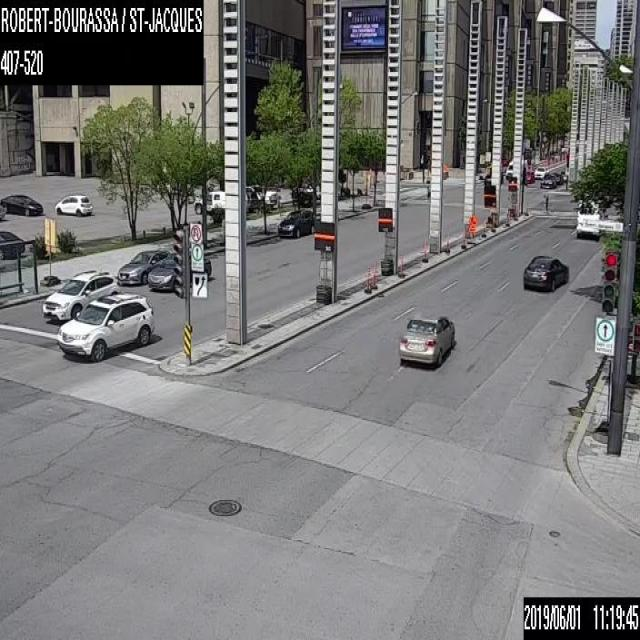construction: (465, 209, 479, 232), (362, 266, 371, 294), (370, 260, 378, 288), (420, 237, 428, 263), (396, 254, 404, 278), (443, 230, 450, 254), (460, 235, 465, 248), (514, 205, 518, 219), (525, 202, 528, 215), (505, 212, 508, 224)
pedestrian: (542, 190, 548, 212)
vehicle: (56, 293, 153, 360), (41, 269, 124, 320), (398, 313, 457, 368), (147, 252, 210, 290), (117, 247, 173, 284), (521, 252, 568, 292), (574, 200, 603, 238), (277, 209, 315, 237), (0, 193, 42, 215), (192, 190, 225, 217), (54, 193, 93, 215), (0, 232, 24, 260), (250, 186, 277, 210), (245, 187, 258, 211), (539, 174, 557, 187), (503, 157, 512, 179), (533, 164, 545, 178), (551, 172, 562, 183), (525, 170, 534, 182), (0, 202, 5, 222), (560, 170, 568, 180)
